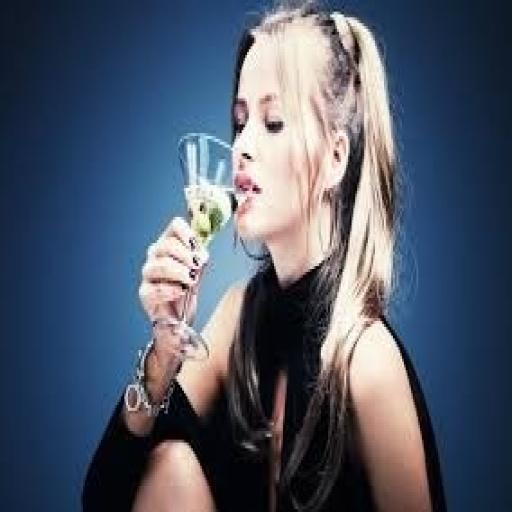drinking: (151, 130, 238, 362)
